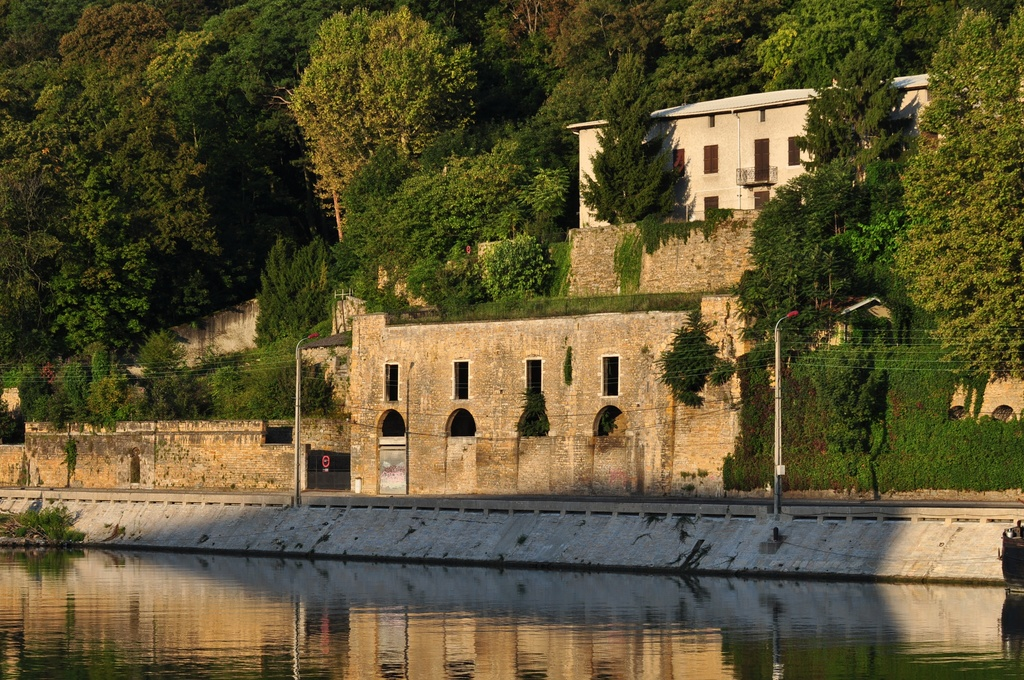Tree: (0, 0, 1024, 383)
